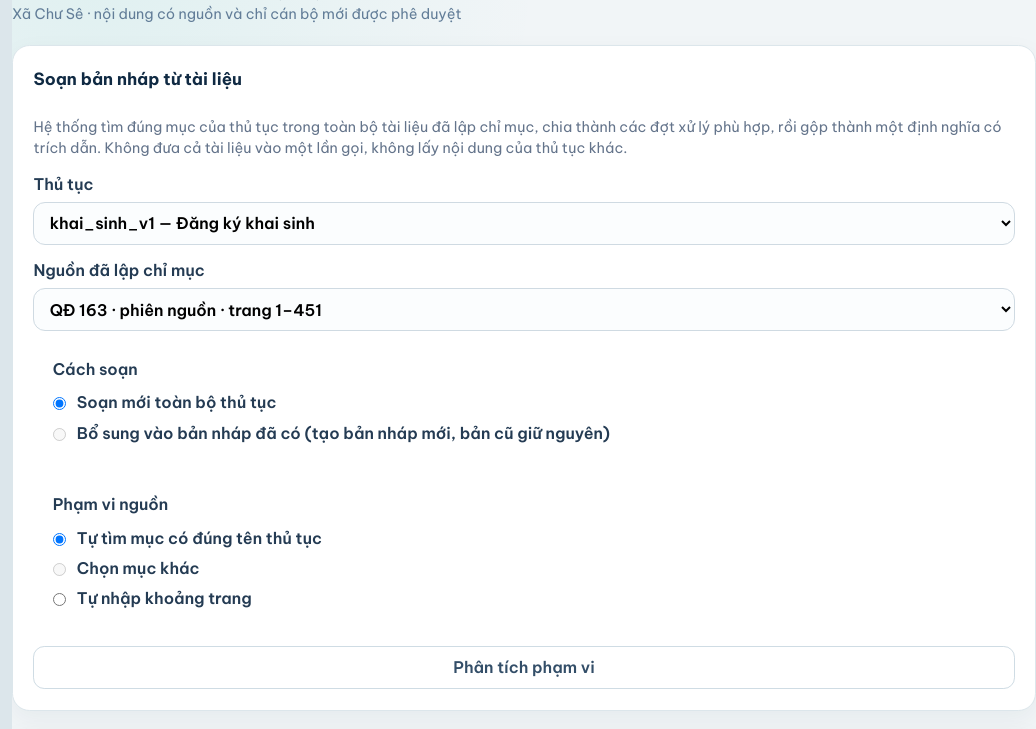
Scenario: DraftsPage long-document drafting › analyses the whole document and shows the procedure section and batches
This screenshot has width=1036, height=729.
Click the button "Phân tích phạm vi".
click(524, 667)  # box 34,646 -> 1015,689
(page scrolled)
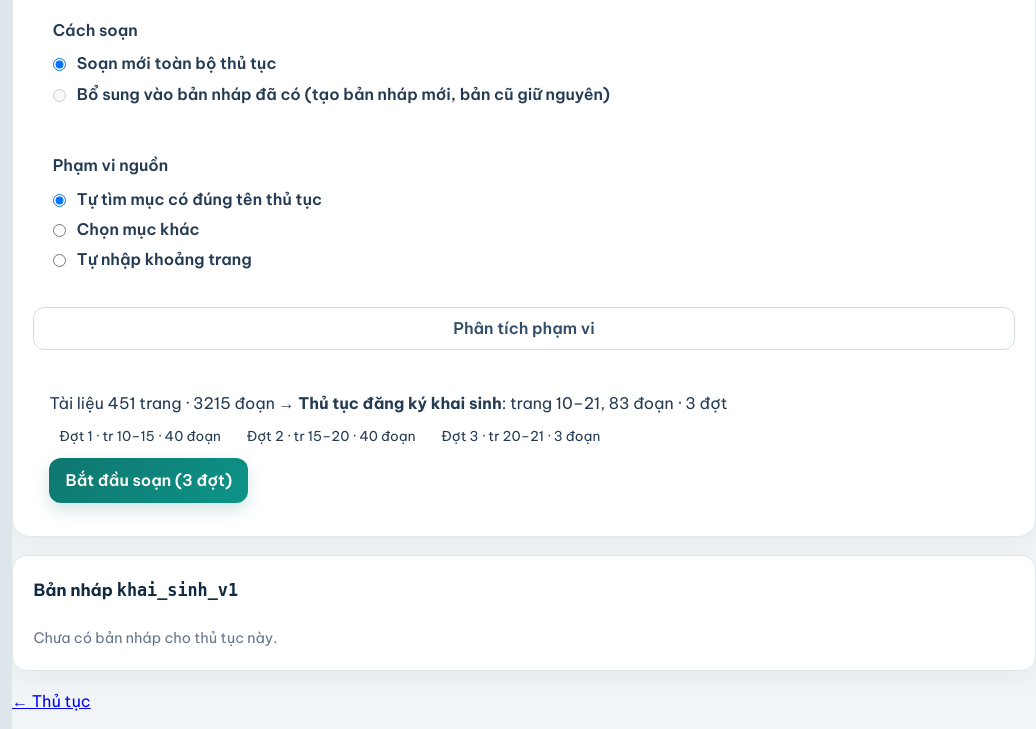
Check: the element with class "dj-plan-summary" shows "Tài liệu 451 trang · 3215 đoạn", box 50,393 -> 728,413
Check: the element with class "dj-plan-summary" shows "Thủ tục đăng ký khai sinh", box 298,393 -> 502,413
Check: the element with class "dj-plan-summary" shows "trang 10–21, 83 đoạn", box 50,393 -> 728,413
